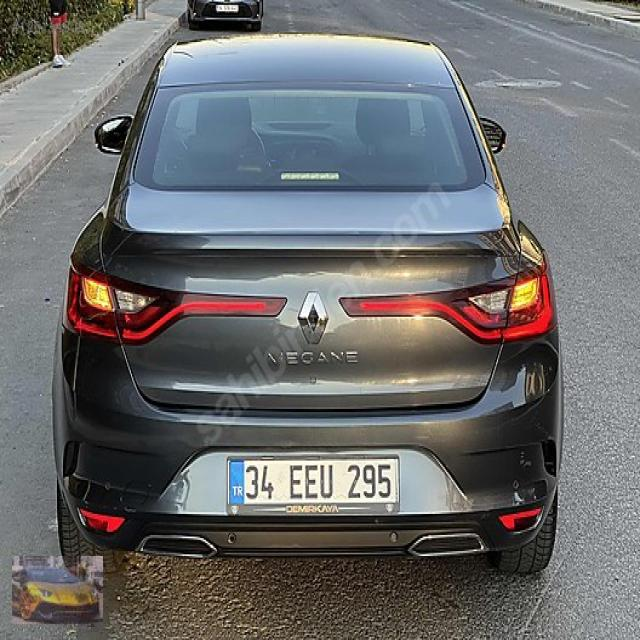renault: (297, 288, 331, 344)
